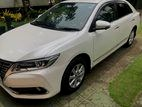car: (1, 0, 140, 99)
